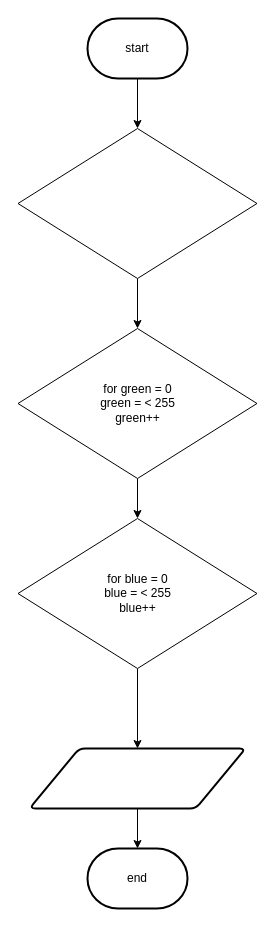
The diagram is 274 pixels wide and 926 high, and some of its shapes have lost their labels. The shapes that lost their labels are listed below. From the top down, each one's centre as x and y in pixels, then its label:
At (137,203): "for red = 0 red = < 255 red++".
At (137,778): "output red, green, blue".
